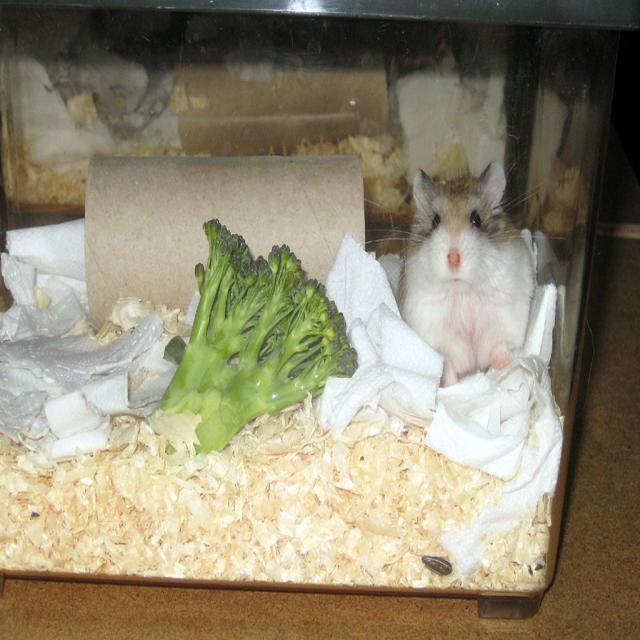rat: (394, 158, 540, 382)
